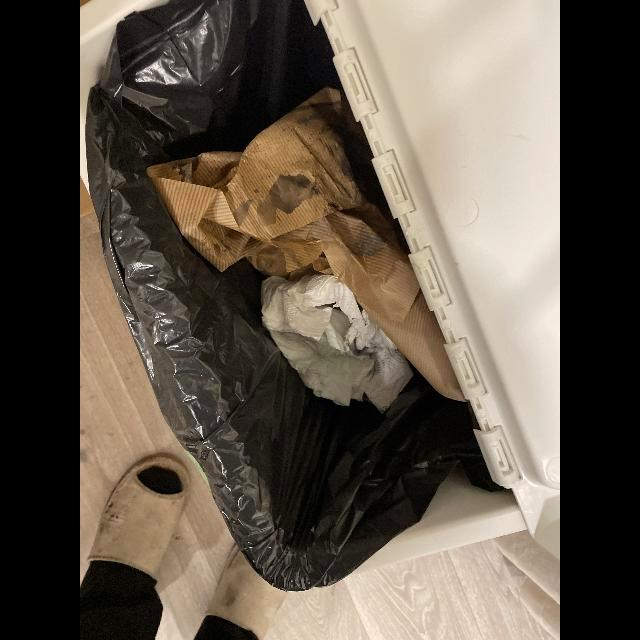paper: (147, 89, 464, 404), (261, 274, 414, 415)
